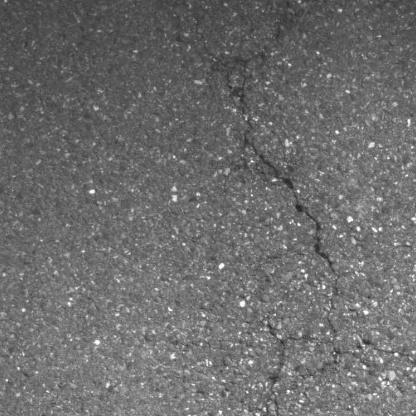Cracks: (222, 72, 345, 337), (263, 315, 291, 416)
